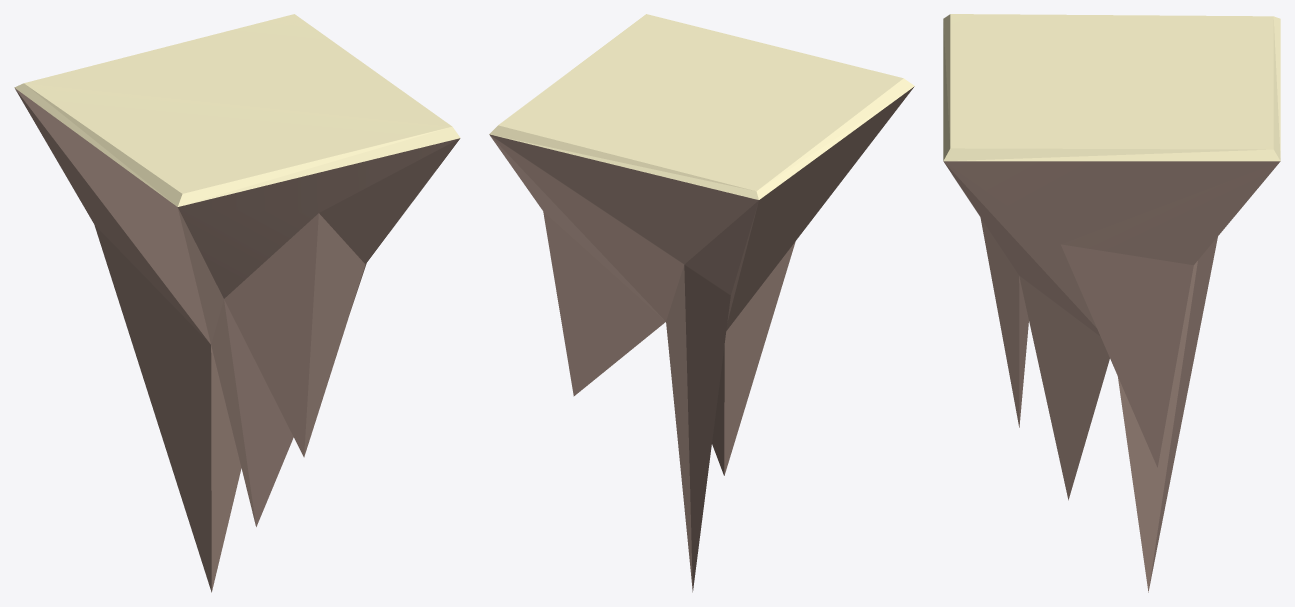
3 views of the same model, side by side, from view 1: azimuth 30°, elevation 25°; view 2: azimuth 150°, elevation 25°; view 3: azimuth 270°, elevation 25° (orthographic). The views are drawn at different scales.
Parts seen in each view (by area): view 1: mesh1926919455; view 2: mesh1926919455; view 3: mesh1926919455.
Part boxes in pixels (x1,y1,x2,y2): mesh1926919455: (14, 14, 460, 592); mesh1926919455: (489, 14, 914, 592); mesh1926919455: (943, 14, 1280, 592).
Size of the model in its own units: 3.48 by 5.89 by 3.48.
